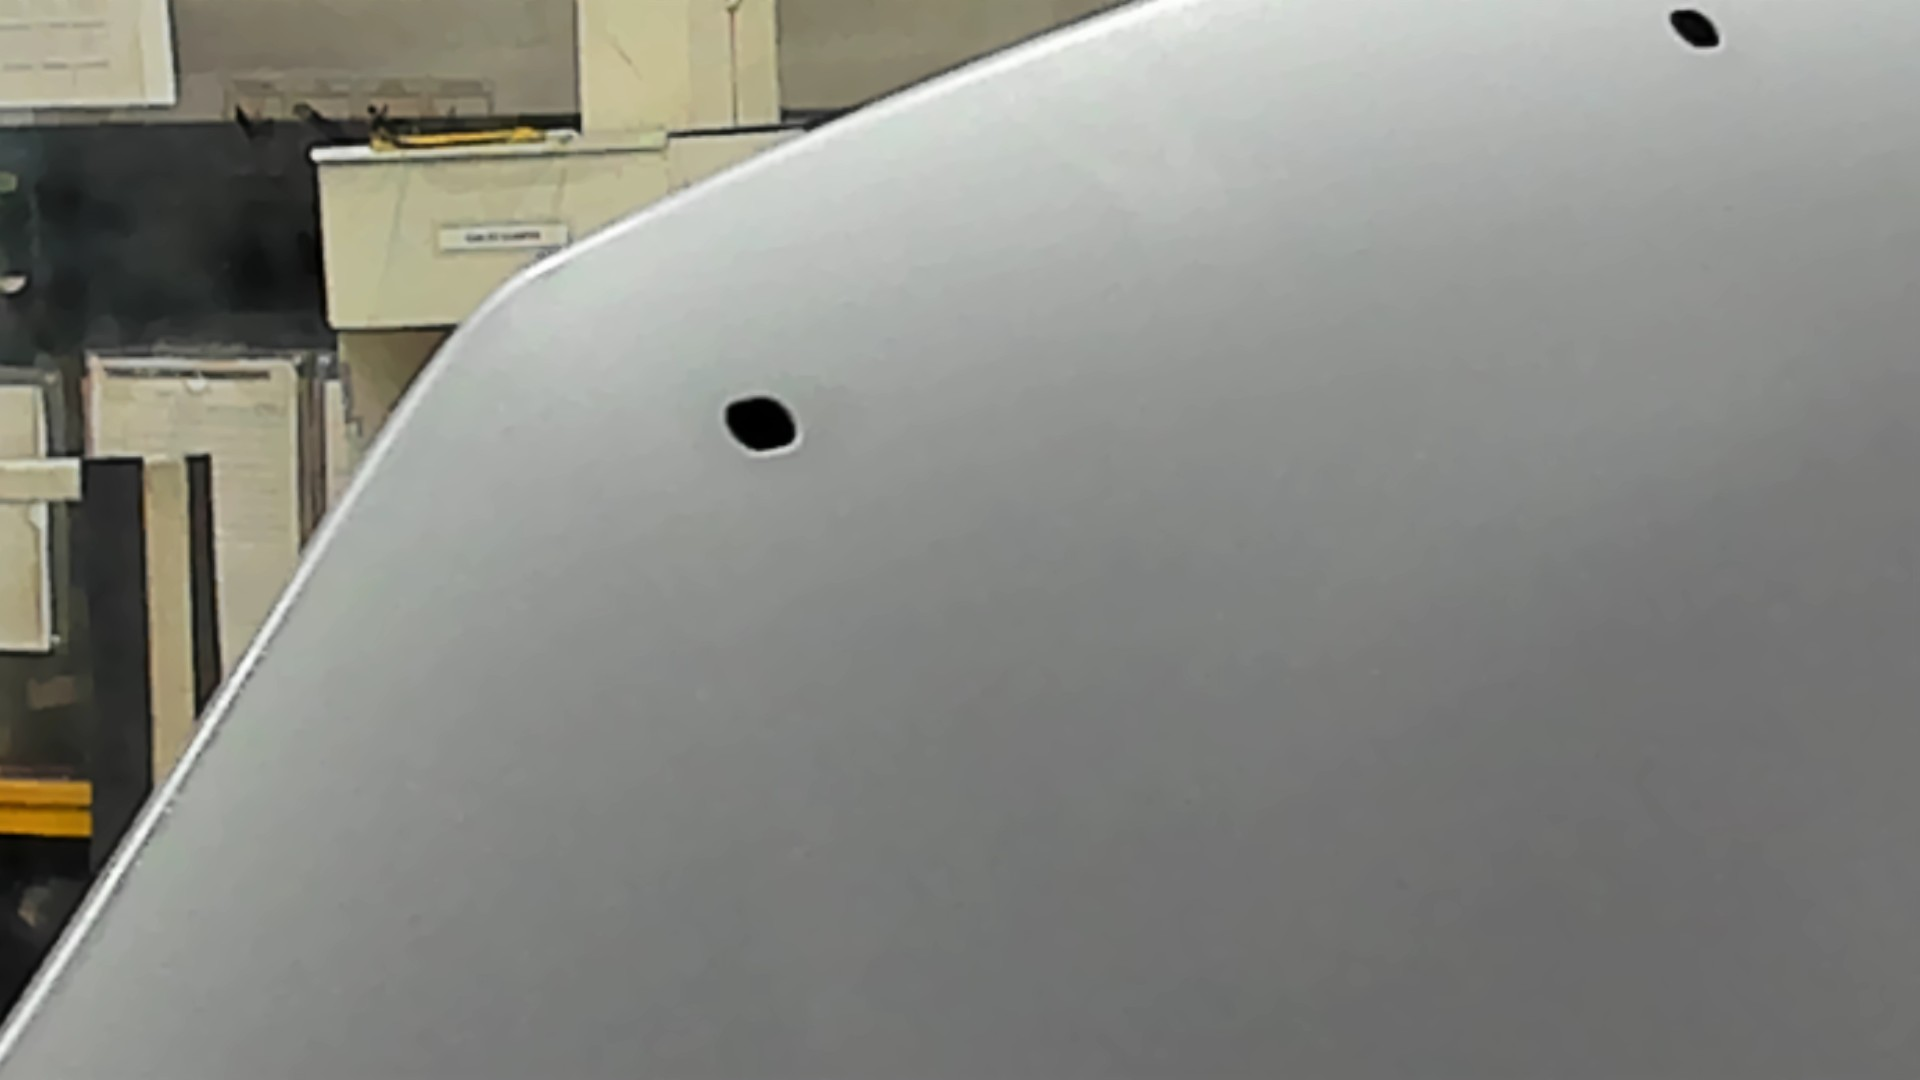Agujero: (721, 393, 802, 454), (1667, 7, 1724, 50)
